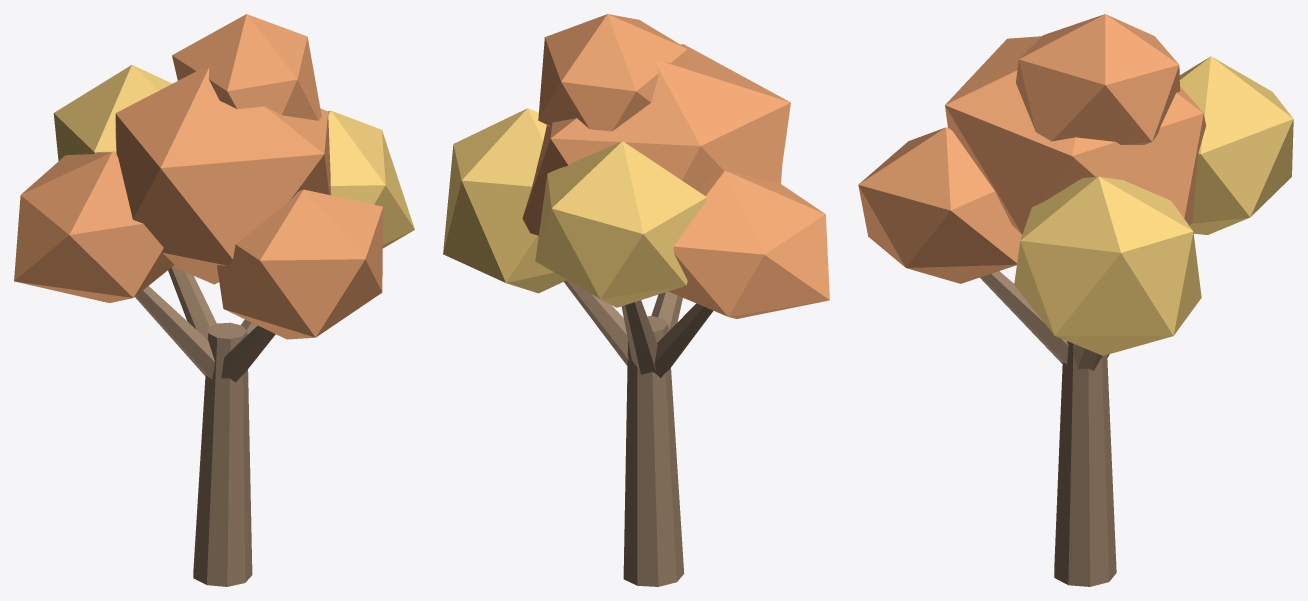
The model's file is Tree_Maple.fbx.
3 views of the same model, side by side, from view 1: azimuth 30°, elevation 25°; view 2: azimuth 150°, elevation 25°; view 3: azimuth 270°, elevation 25° (orthographic). The views are drawn at different scales.
Parts seen in each view (by area): view 1: Tree_Maple_Mesh; view 2: Tree_Maple_Mesh; view 3: Tree_Maple_Mesh.
Part boxes in pixels (x1,y1,x2,y2): Tree_Maple_Mesh: (14, 14, 414, 586); Tree_Maple_Mesh: (443, 14, 829, 586); Tree_Maple_Mesh: (858, 14, 1293, 586).
Bounding box in the file's own units: 7.01 × 9.9 × 6.77.
